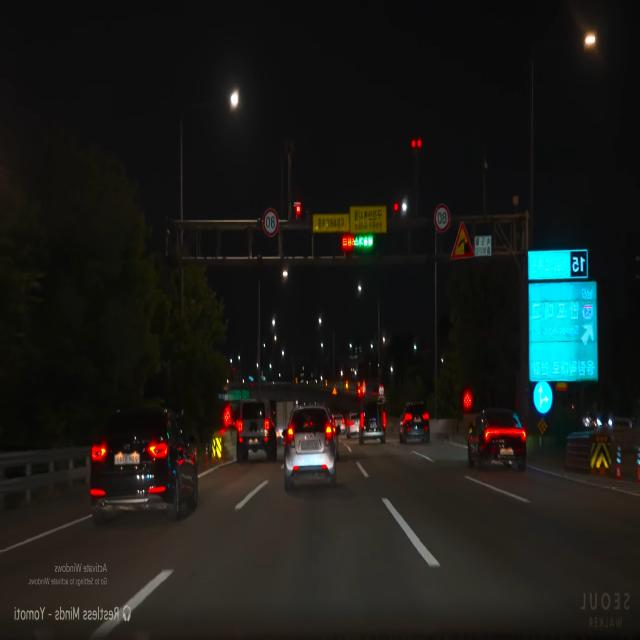headlights: (594, 412, 616, 432)
